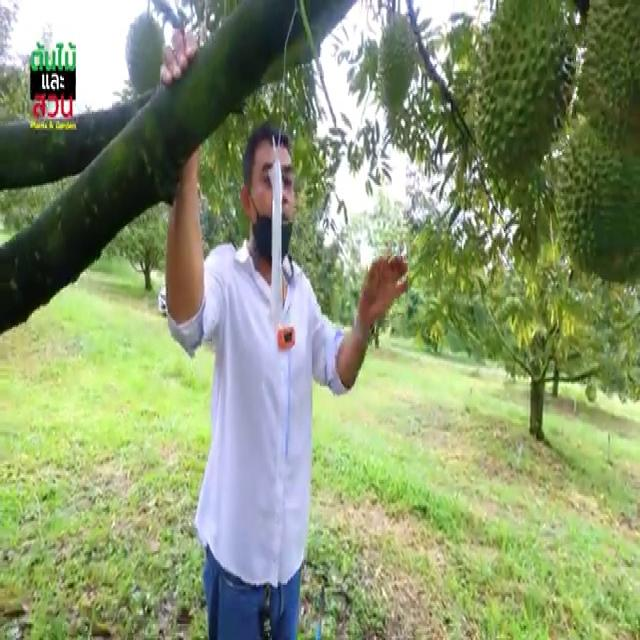durian: (473, 0, 579, 181), (550, 115, 638, 287), (375, 11, 423, 115), (124, 14, 167, 101)
